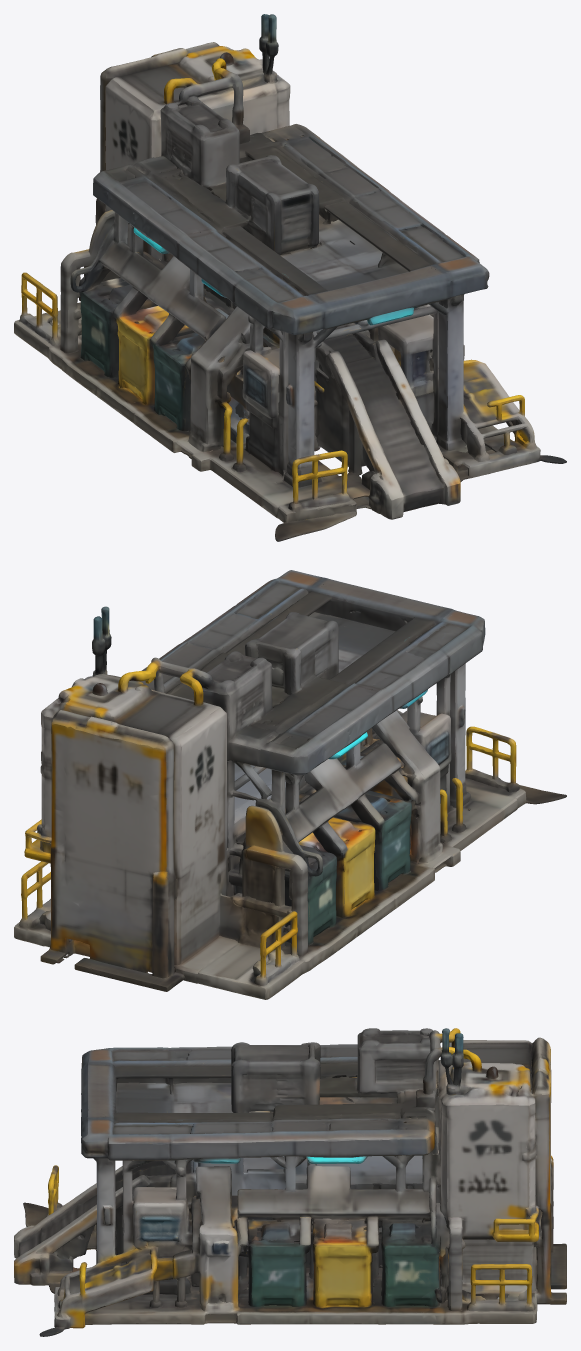
File: recycler.glb
3 views of the same model, one above another, from view 1: azimuth 30°, elevation 25°; view 2: azimuth 150°, elevation 25°; view 3: azimuth 270°, elevation 25° (orthographic). The views are drawn at different scales.
Parts seen in each view (by area): view 1: world; view 2: world; view 3: world.
Boxes of the visible parts, <box> form: world: <box>14,14,566,541</box>; world: <box>14,570,566,999</box>; world: <box>14,1028,566,1336</box>.
Bounding box in the file's own units: 8.5 × 8.37 × 14.94.
1 material, 1 textured.
